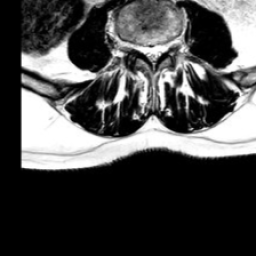CCS_normal: (149, 35, 157, 75)
LFS_normal: (164, 31, 170, 60)
LLS_normal: (157, 35, 164, 66)
RFS_normal: (134, 33, 141, 61)
RLS_normal: (141, 35, 149, 64)
